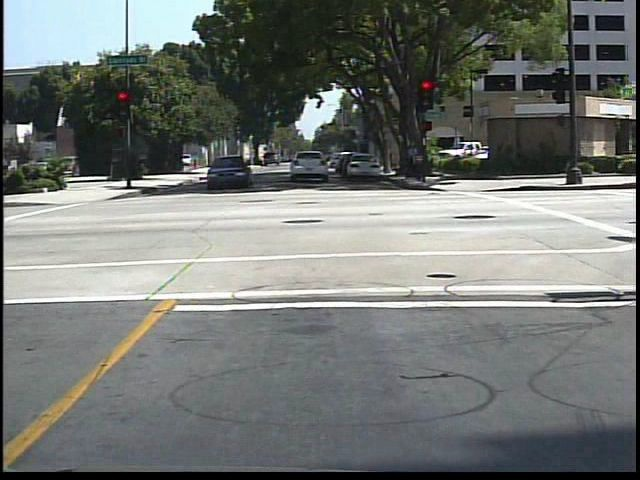person: (403, 138, 421, 183)
